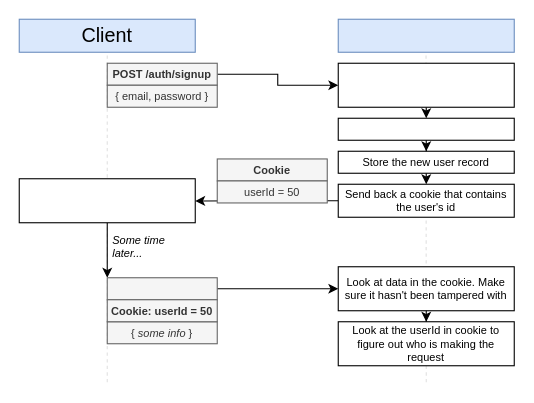
The diagram is 534 pixels wide and 403 high, and some of its shapes have lost their labels. The centre of each missing label's shape, as x and y in pixels:
Browser automatically stores the cookie and attaches it to follow up requests: (106,200)
Encrypt the users's password: (425,128)
POST /reports: (161,288)
See if this email is already in use. If it is, return an error: (425,84)
Server: (425,35)
